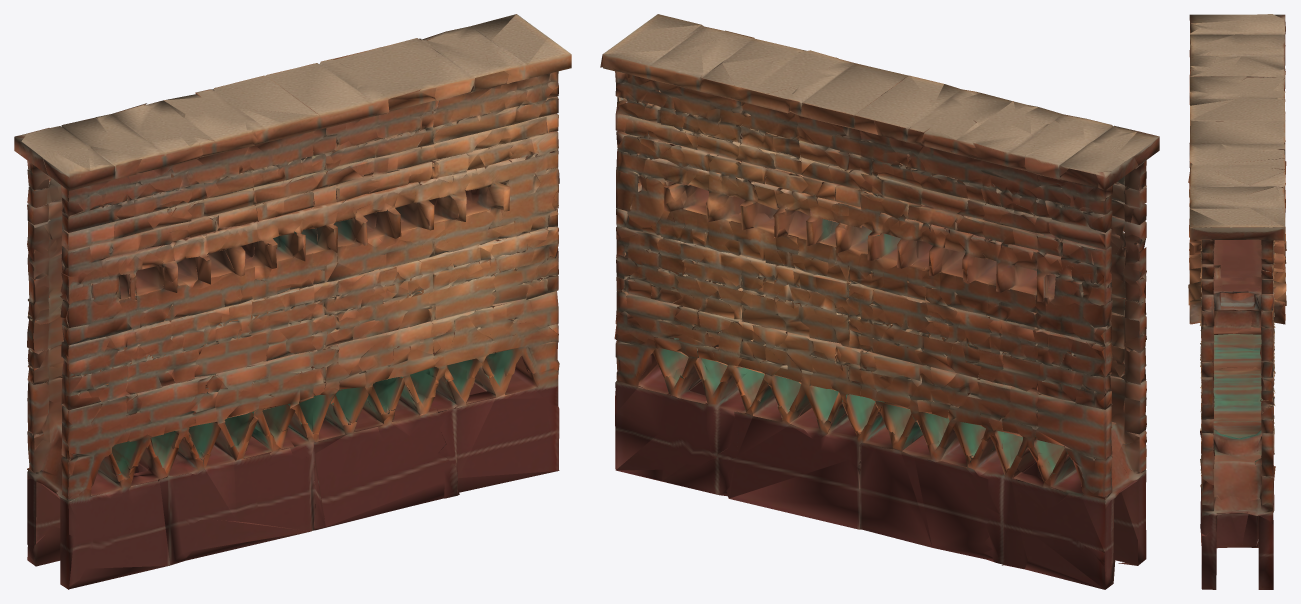
File: muro.glb
The picture shows the model from 3 angles, left to right: view 1: azimuth 30°, elevation 25°; view 2: azimuth 150°, elevation 25°; view 3: azimuth 270°, elevation 25°; orthographic projection. The views are drawn at different scales.
Visible parts, largest first — view 1: mesh_node; view 2: mesh_node; view 3: mesh_node.
Part boxes in pixels (x1=…): mesh_node: x1=14, y1=14, x2=571, y2=589; mesh_node: x1=600, y1=14, x2=1159, y2=589; mesh_node: x1=1188, y1=14, x2=1286, y2=589.
Size of the model in its own units: 1.01 by 0.8063 by 0.1956.
1 material, 1 textured.
